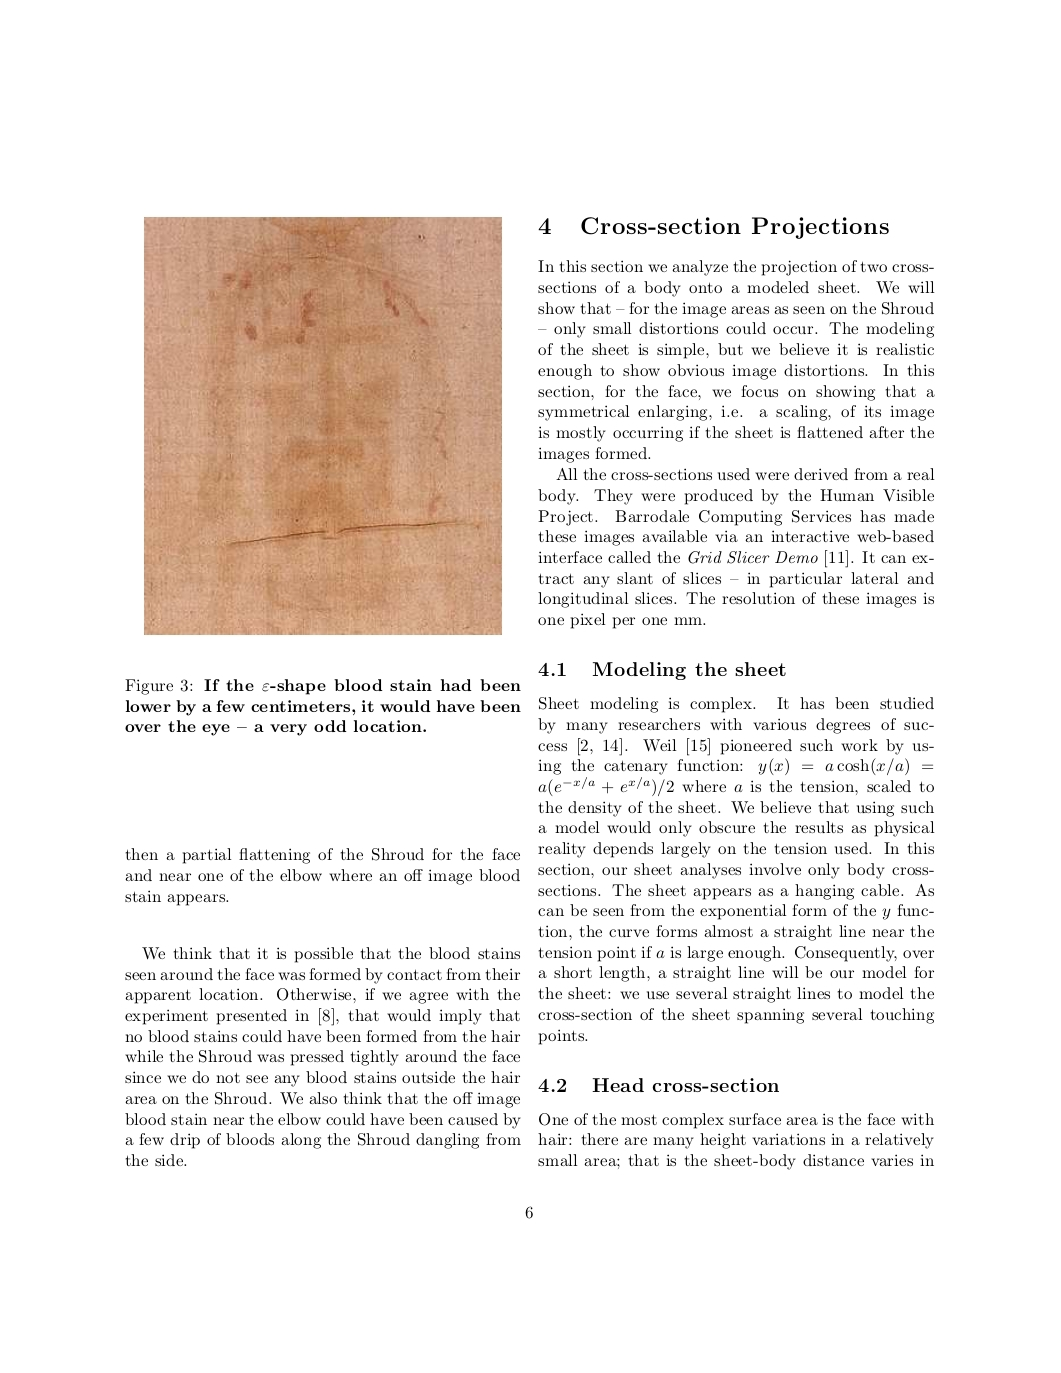figure: (144, 215, 502, 635)
